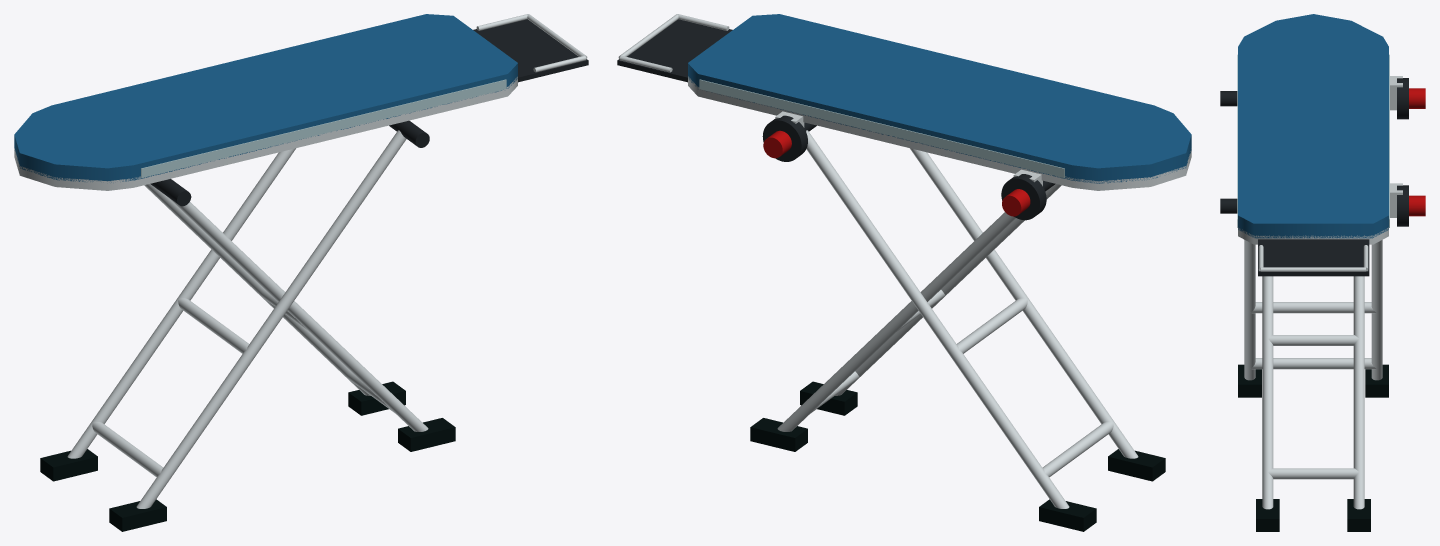
The picture shows the model from 3 angles, left to right: view 1: azimuth 30°, elevation 25°; view 2: azimuth 150°, elevation 25°; view 3: azimuth 270°, elevation 25°; orthographic projection. The views are drawn at different scales.
Visible parts, largest first — view 1: /Asset/Links/padded_board/Visuals/padded_work_surface/Geom/m, /Asset/Links/right_frame/Visuals/right_rail_neg/Geom, /Asset/Links/padded_board/Visuals/board_shell/Geom/mesh, /Asset/Links/right_frame/Visuals/right_rail_pos/Geom, /Asset/Links/left_frame/Visuals/left_rail_neg/Geom, /Asset/Links/padded_board/Visuals/side_welt_neg/Geom, /Asset/Links/iron_rest/Visuals/rest_tray_plate/Geom, /Asset/Links/left_frame/Visuals/left_rail_pos/Geom, /Asset/Links/left_foot_neg/Visuals/left_foot_neg_pad/Geom, /Asset/Links/right_foot_neg/Visuals/right_foot_neg_pad/Geom, /Asset/Links/right_foot_pos/Visuals/right_foot_pos_pad/Geom, /Asset/Links/right_frame/Visuals/right_mid_crossbar/Geom (+2 smaller); view 2: /Asset/Links/padded_board/Visuals/padded_work_surface/Geom/m, /Asset/Links/right_frame/Visuals/right_rail_pos/Geom, /Asset/Links/right_frame/Visuals/right_rail_neg/Geom, /Asset/Links/padded_board/Visuals/board_shell/Geom/mesh, /Asset/Links/padded_board/Visuals/side_welt_pos/Geom, /Asset/Links/left_frame/Visuals/left_rail_pos/Geom, /Asset/Links/iron_rest/Visuals/rest_tray_plate/Geom, /Asset/Links/left_frame/Visuals/left_rail_neg/Geom, /Asset/Links/left_foot_pos/Visuals/left_foot_pos_pad/Geom, /Asset/Links/right_foot_neg/Visuals/right_foot_neg_pad/Geom, /Asset/Links/right_foot_pos/Visuals/right_foot_pos_pad/Geom, /Asset/Links/right_frame/Visuals/right_mid_crossbar/Geom (+4 smaller); view 3: /Asset/Links/padded_board/Visuals/padded_work_surface/Geom/m, /Asset/Links/iron_rest/Visuals/rest_tray_plate/Geom, /Asset/Links/left_frame/Visuals/left_rail_neg/Geom, /Asset/Links/left_frame/Visuals/left_rail_pos/Geom, /Asset/Links/right_frame/Visuals/right_rail_neg/Geom, /Asset/Links/right_frame/Visuals/right_rail_pos/Geom, /Asset/Links/right_frame/Visuals/right_lower_crossbar/Geom, /Asset/Links/right_frame/Visuals/right_mid_crossbar/Geom, /Asset/Links/left_frame/Visuals/left_lower_crossbar/Geom, /Asset/Links/left_frame/Visuals/left_mid_crossbar/Geom, /Asset/Links/padded_board/Visuals/board_shell/Geom/mesh, /Asset/Links/left_foot_neg/Visuals/left_foot_neg_pad/Geom (+12 smaller).
Boxes of the visible parts, box(x1,y1,x2,y2) form: /Asset/Links/padded_board/Visuals/padded_work_surface/Geom/m: box(14, 14, 517, 182); /Asset/Links/right_frame/Visuals/right_rail_neg/Geom: box(136, 130, 406, 508); /Asset/Links/padded_board/Visuals/board_shell/Geom/mesh: box(14, 76, 517, 190); /Asset/Links/right_frame/Visuals/right_rail_pos/Geom: box(67, 148, 295, 458); /Asset/Links/left_frame/Visuals/left_rail_neg/Geom: box(168, 197, 428, 431); /Asset/Links/padded_board/Visuals/side_welt_neg/Geom: box(141, 79, 506, 177); /Asset/Links/iron_rest/Visuals/rest_tray_plate/Geom: box(473, 19, 588, 82); /Asset/Links/left_frame/Visuals/left_rail_pos/Geom: box(144, 184, 370, 395); /Asset/Links/left_foot_neg/Visuals/left_foot_neg_pad/Geom: box(398, 418, 455, 451); /Asset/Links/right_foot_neg/Visuals/right_foot_neg_pad/Geom: box(109, 499, 166, 531); /Asset/Links/right_foot_pos/Visuals/right_foot_pos_pad/Geom: box(40, 449, 97, 481); /Asset/Links/right_frame/Visuals/right_mid_crossbar/Geom: box(178, 298, 249, 353); /Asset/Links/padded_board/Visuals/padded_work_surface/Geom/m: box(688, 14, 1191, 183); /Asset/Links/right_frame/Visuals/right_rail_pos/Geom: box(806, 130, 1069, 508); /Asset/Links/right_frame/Visuals/right_rail_neg/Geom: box(910, 148, 1138, 458); /Asset/Links/padded_board/Visuals/board_shell/Geom/mesh: box(688, 76, 1191, 190); /Asset/Links/padded_board/Visuals/side_welt_pos/Geom: box(699, 79, 1064, 177); /Asset/Links/left_frame/Visuals/left_rail_pos/Geom: box(777, 212, 1015, 431); /Asset/Links/iron_rest/Visuals/rest_tray_plate/Geom: box(617, 19, 732, 82); /Asset/Links/left_frame/Visuals/left_rail_neg/Geom: box(835, 184, 1061, 395); /Asset/Links/left_foot_pos/Visuals/left_foot_pos_pad/Geom: box(750, 418, 807, 451); /Asset/Links/right_foot_neg/Visuals/right_foot_neg_pad/Geom: box(1108, 449, 1165, 481); /Asset/Links/right_foot_pos/Visuals/right_foot_pos_pad/Geom: box(1039, 499, 1096, 531); /Asset/Links/right_frame/Visuals/right_mid_crossbar/Geom: box(956, 298, 1027, 353); /Asset/Links/padded_board/Visuals/padded_work_surface/Geom/m: box(1238, 14, 1388, 238); /Asset/Links/iron_rest/Visuals/rest_tray_plate/Geom: box(1258, 239, 1369, 276); /Asset/Links/left_frame/Visuals/left_rail_neg/Geom: box(1262, 276, 1273, 509); /Asset/Links/left_frame/Visuals/left_rail_pos/Geom: box(1353, 276, 1364, 509); /Asset/Links/right_frame/Visuals/right_rail_neg/Geom: box(1244, 240, 1255, 380); /Asset/Links/right_frame/Visuals/right_rail_pos/Geom: box(1371, 240, 1382, 380); /Asset/Links/right_frame/Visuals/right_lower_crossbar/Geom: box(1250, 358, 1376, 369); /Asset/Links/right_frame/Visuals/right_mid_crossbar/Geom: box(1250, 302, 1376, 313); /Asset/Links/left_frame/Visuals/left_lower_crossbar/Geom: box(1268, 468, 1358, 479); /Asset/Links/left_frame/Visuals/left_mid_crossbar/Geom: box(1268, 335, 1358, 345); /Asset/Links/padded_board/Visuals/board_shell/Geom/mesh: box(1238, 227, 1388, 244); /Asset/Links/left_foot_neg/Visuals/left_foot_neg_pad/Geom: box(1256, 499, 1279, 531).
Size of the model in its own units: 1.45 by 0.933 by 0.5175.
